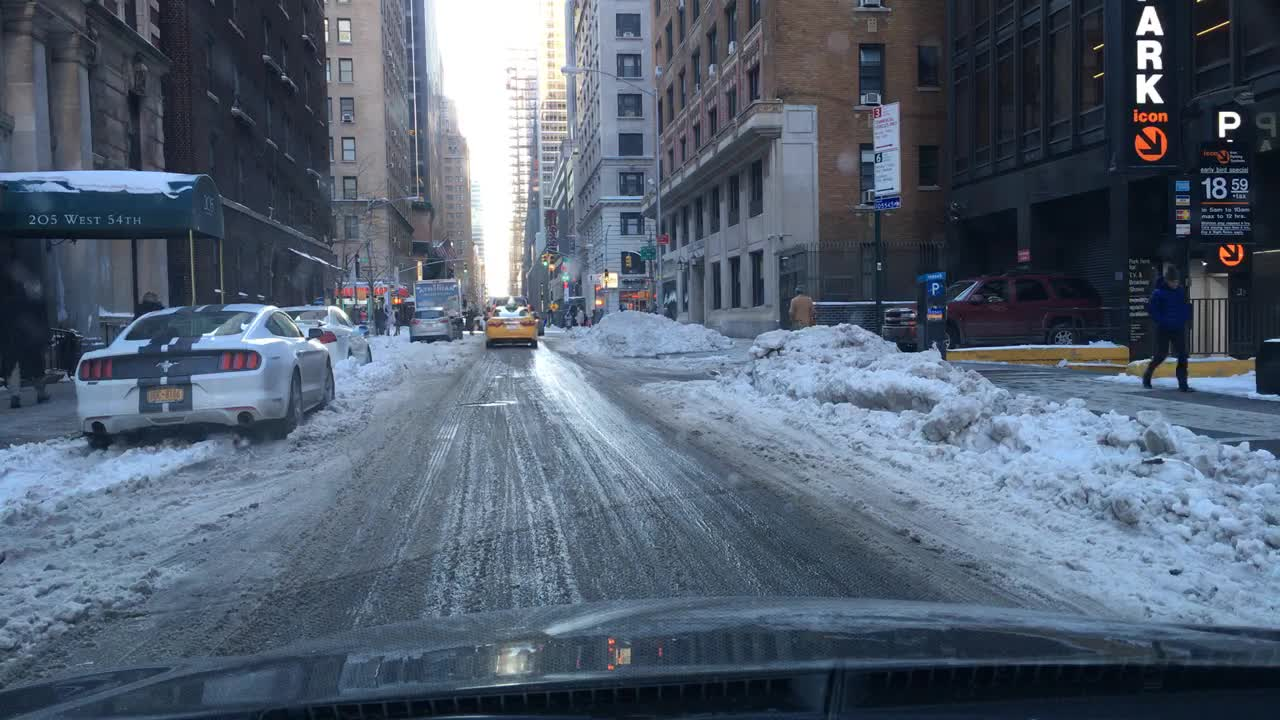car: (73, 304, 335, 451), (882, 272, 1109, 356), (284, 302, 375, 371), (483, 304, 540, 348), (408, 306, 456, 343)
person: (1146, 261, 1193, 398), (786, 282, 817, 334)
